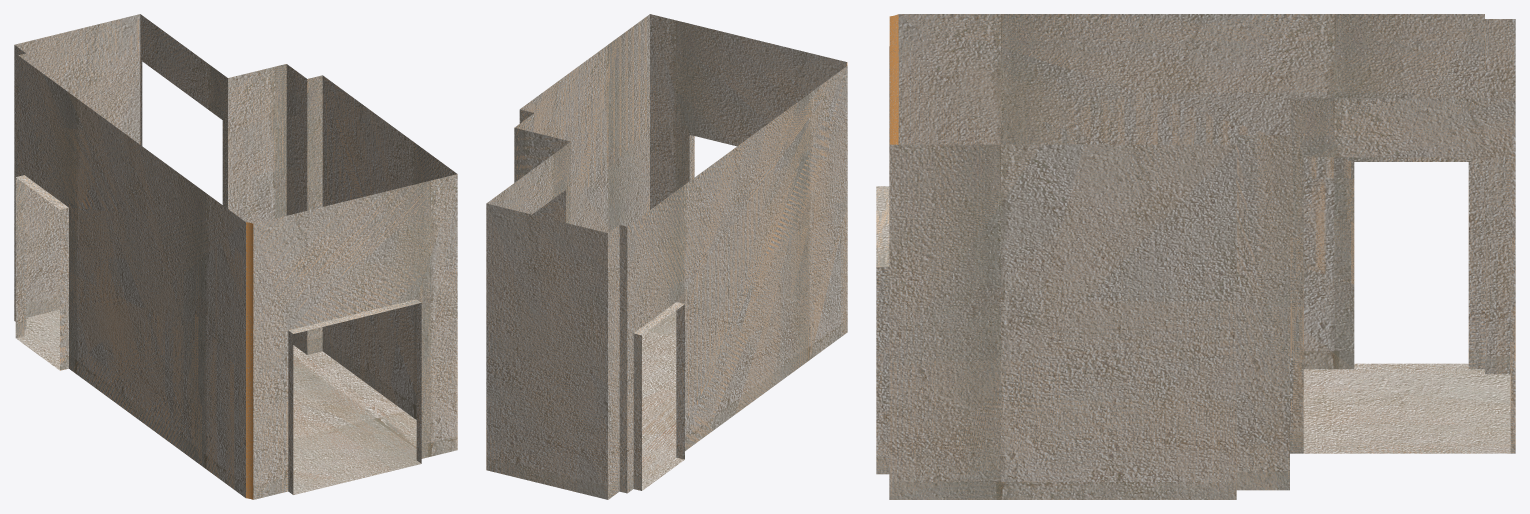
Rendered from COM006.obj.
The picture shows the model from 3 angles, left to right: view 1: azimuth 30°, elevation 25°; view 2: azimuth 150°, elevation 25°; view 3: azimuth 270°, elevation 25°; orthographic projection. The views are drawn at different scales.
Parts seen in each view (by area): view 1: Mesh1 COM006 Model; view 2: Mesh1 COM006 Model; view 3: Mesh1 COM006 Model.
Part boxes in pixels (left/top/right/bottom): Mesh1 COM006 Model: left=14, top=14, right=457, bottom=499; Mesh1 COM006 Model: left=486, top=14, right=847, bottom=499; Mesh1 COM006 Model: left=876, top=14, right=1515, bottom=499.
Size of the model in its own units: 2.96 by 3.6 by 5.87.
Materials: 4 (2 with a texture image).
